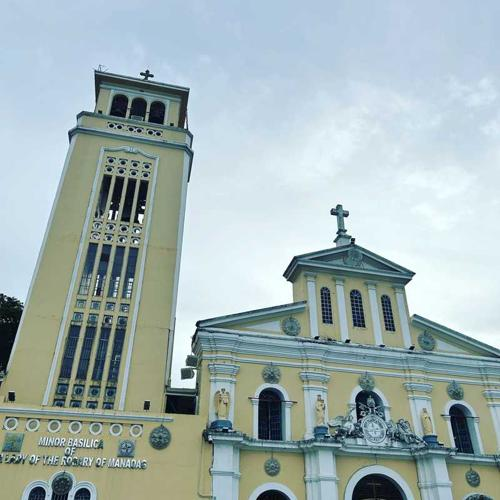Manaoag Church: (33, 64, 500, 499)
